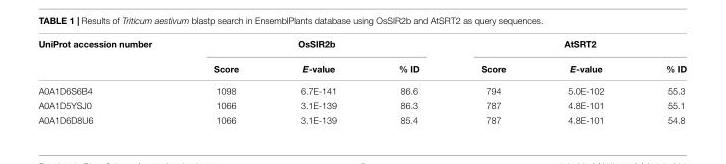table: (37, 37, 686, 124)
table column: (37, 37, 182, 124), (536, 37, 634, 124), (269, 37, 366, 124), (182, 37, 269, 124), (449, 37, 536, 124), (366, 37, 449, 124), (634, 37, 686, 124)
table column header: (37, 37, 686, 79)
table row: (37, 55, 686, 79), (37, 37, 686, 55), (37, 79, 686, 97), (37, 97, 686, 111), (37, 111, 686, 124)
table spanning cell: (37, 37, 182, 79), (182, 37, 449, 55), (449, 37, 686, 55)
